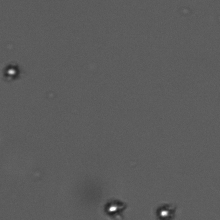Living Cell: (100, 194, 130, 220), (151, 194, 181, 220), (1, 57, 30, 83)
